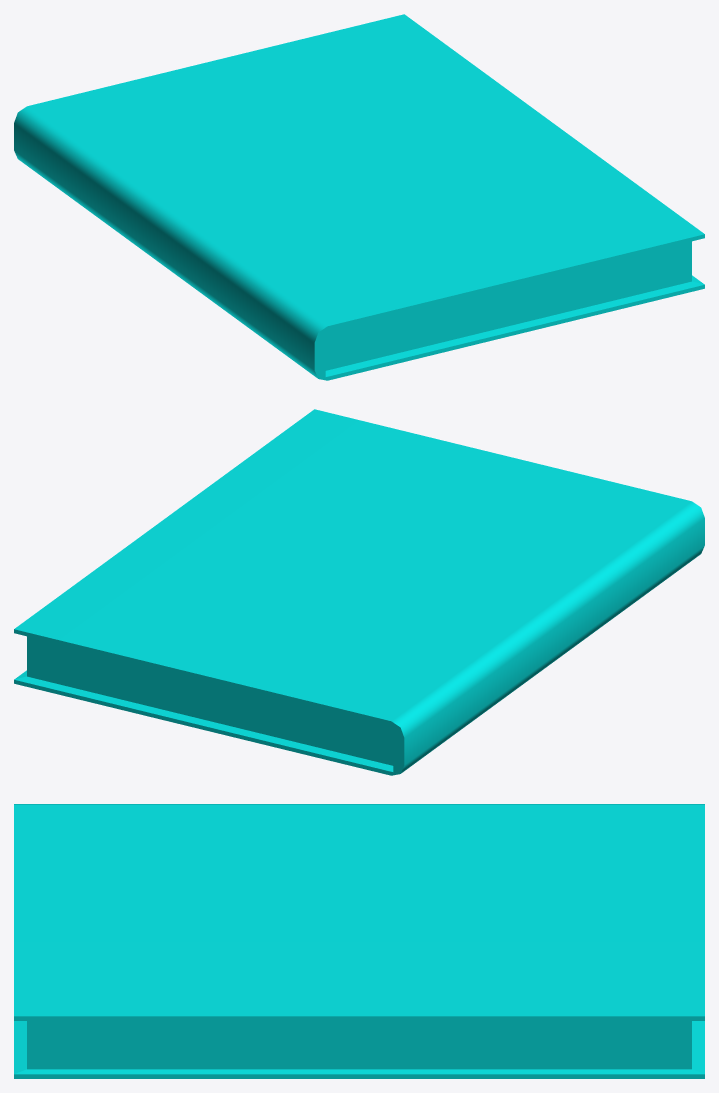
File: classroomBook1.fbx
The picture shows the model from 3 angles, top to bottom: view 1: azimuth 30°, elevation 25°; view 2: azimuth 150°, elevation 25°; view 3: azimuth 270°, elevation 25°; orthographic projection. The views are drawn at different scales.
Visible parts, largest first — view 1: classroomBook1; view 2: classroomBook1; view 3: classroomBook1.
Boxes of the visible parts, x1,y1,x2,y2 form: classroomBook1: [14, 14, 704, 380]; classroomBook1: [14, 409, 704, 775]; classroomBook1: [14, 804, 704, 1078].
Bounding box in the file's own units: 15 × 2 × 20.
